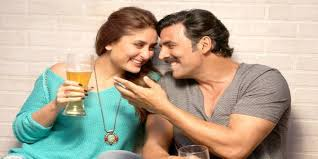Bad: (1, 7, 292, 159)
